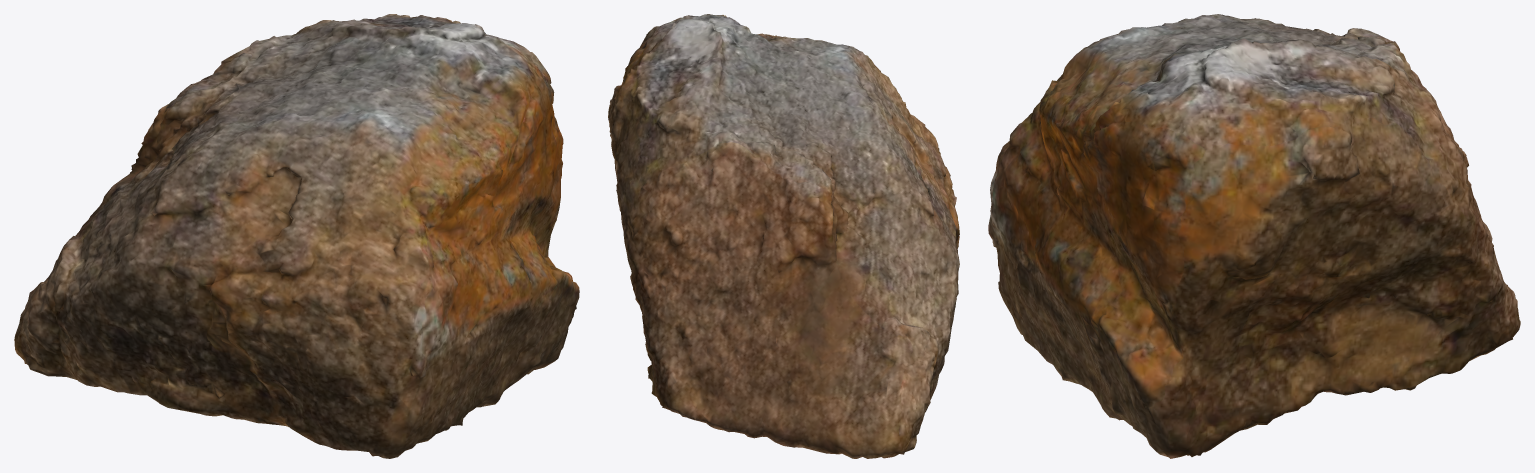
The model's file is namaqualand_boulder_04.glb.
3 renders of one model, left to right at view 1: azimuth 30°, elevation 25°; view 2: azimuth 150°, elevation 25°; view 3: azimuth 270°, elevation 25°, orthographic. The views are drawn at different scales.
Visible parts, largest first — view 1: boulder_04; view 2: boulder_04; view 3: boulder_04.
Boxes of the visible parts, <box> form: boulder_04: <box>14,14,579,458</box>; boulder_04: <box>608,14,959,458</box>; boulder_04: <box>988,14,1520,458</box>.
Size of the model in its own units: 2.52 by 1.9 by 2.5.
1 material, 1 textured.
